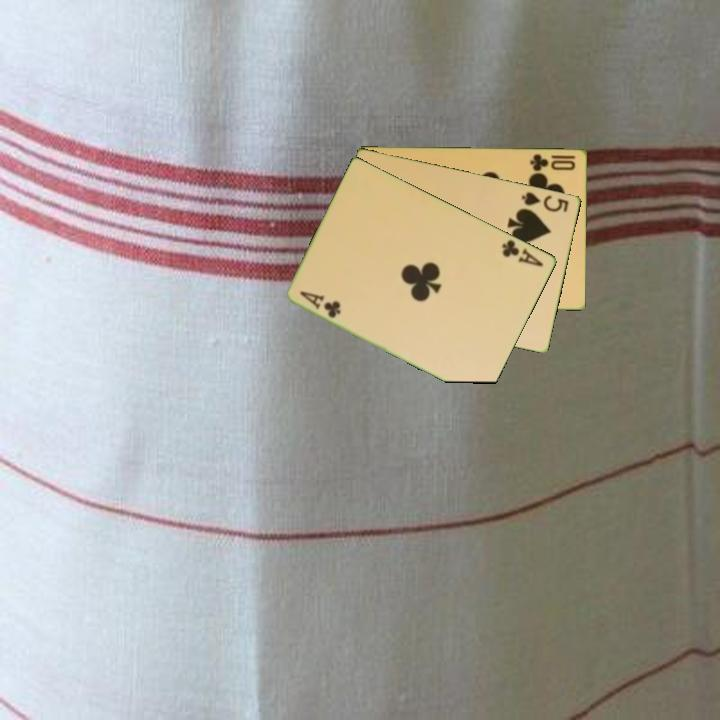10c: (527, 150, 578, 174)
5s: (518, 188, 572, 215)
Ac: (296, 287, 344, 321), (498, 236, 547, 269)
